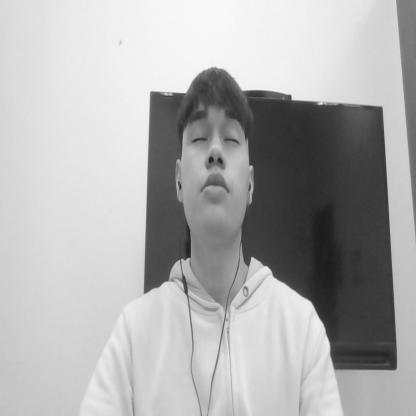Closed-Eyes: (183, 118, 250, 146)
